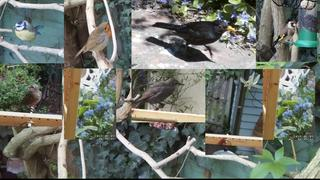blackbird: (152, 20, 236, 61)
blue tit: (13, 20, 44, 50)
goldfinch: (271, 20, 297, 47)
robin: (73, 20, 112, 61)
starling: (134, 78, 185, 111), (15, 83, 42, 113)
